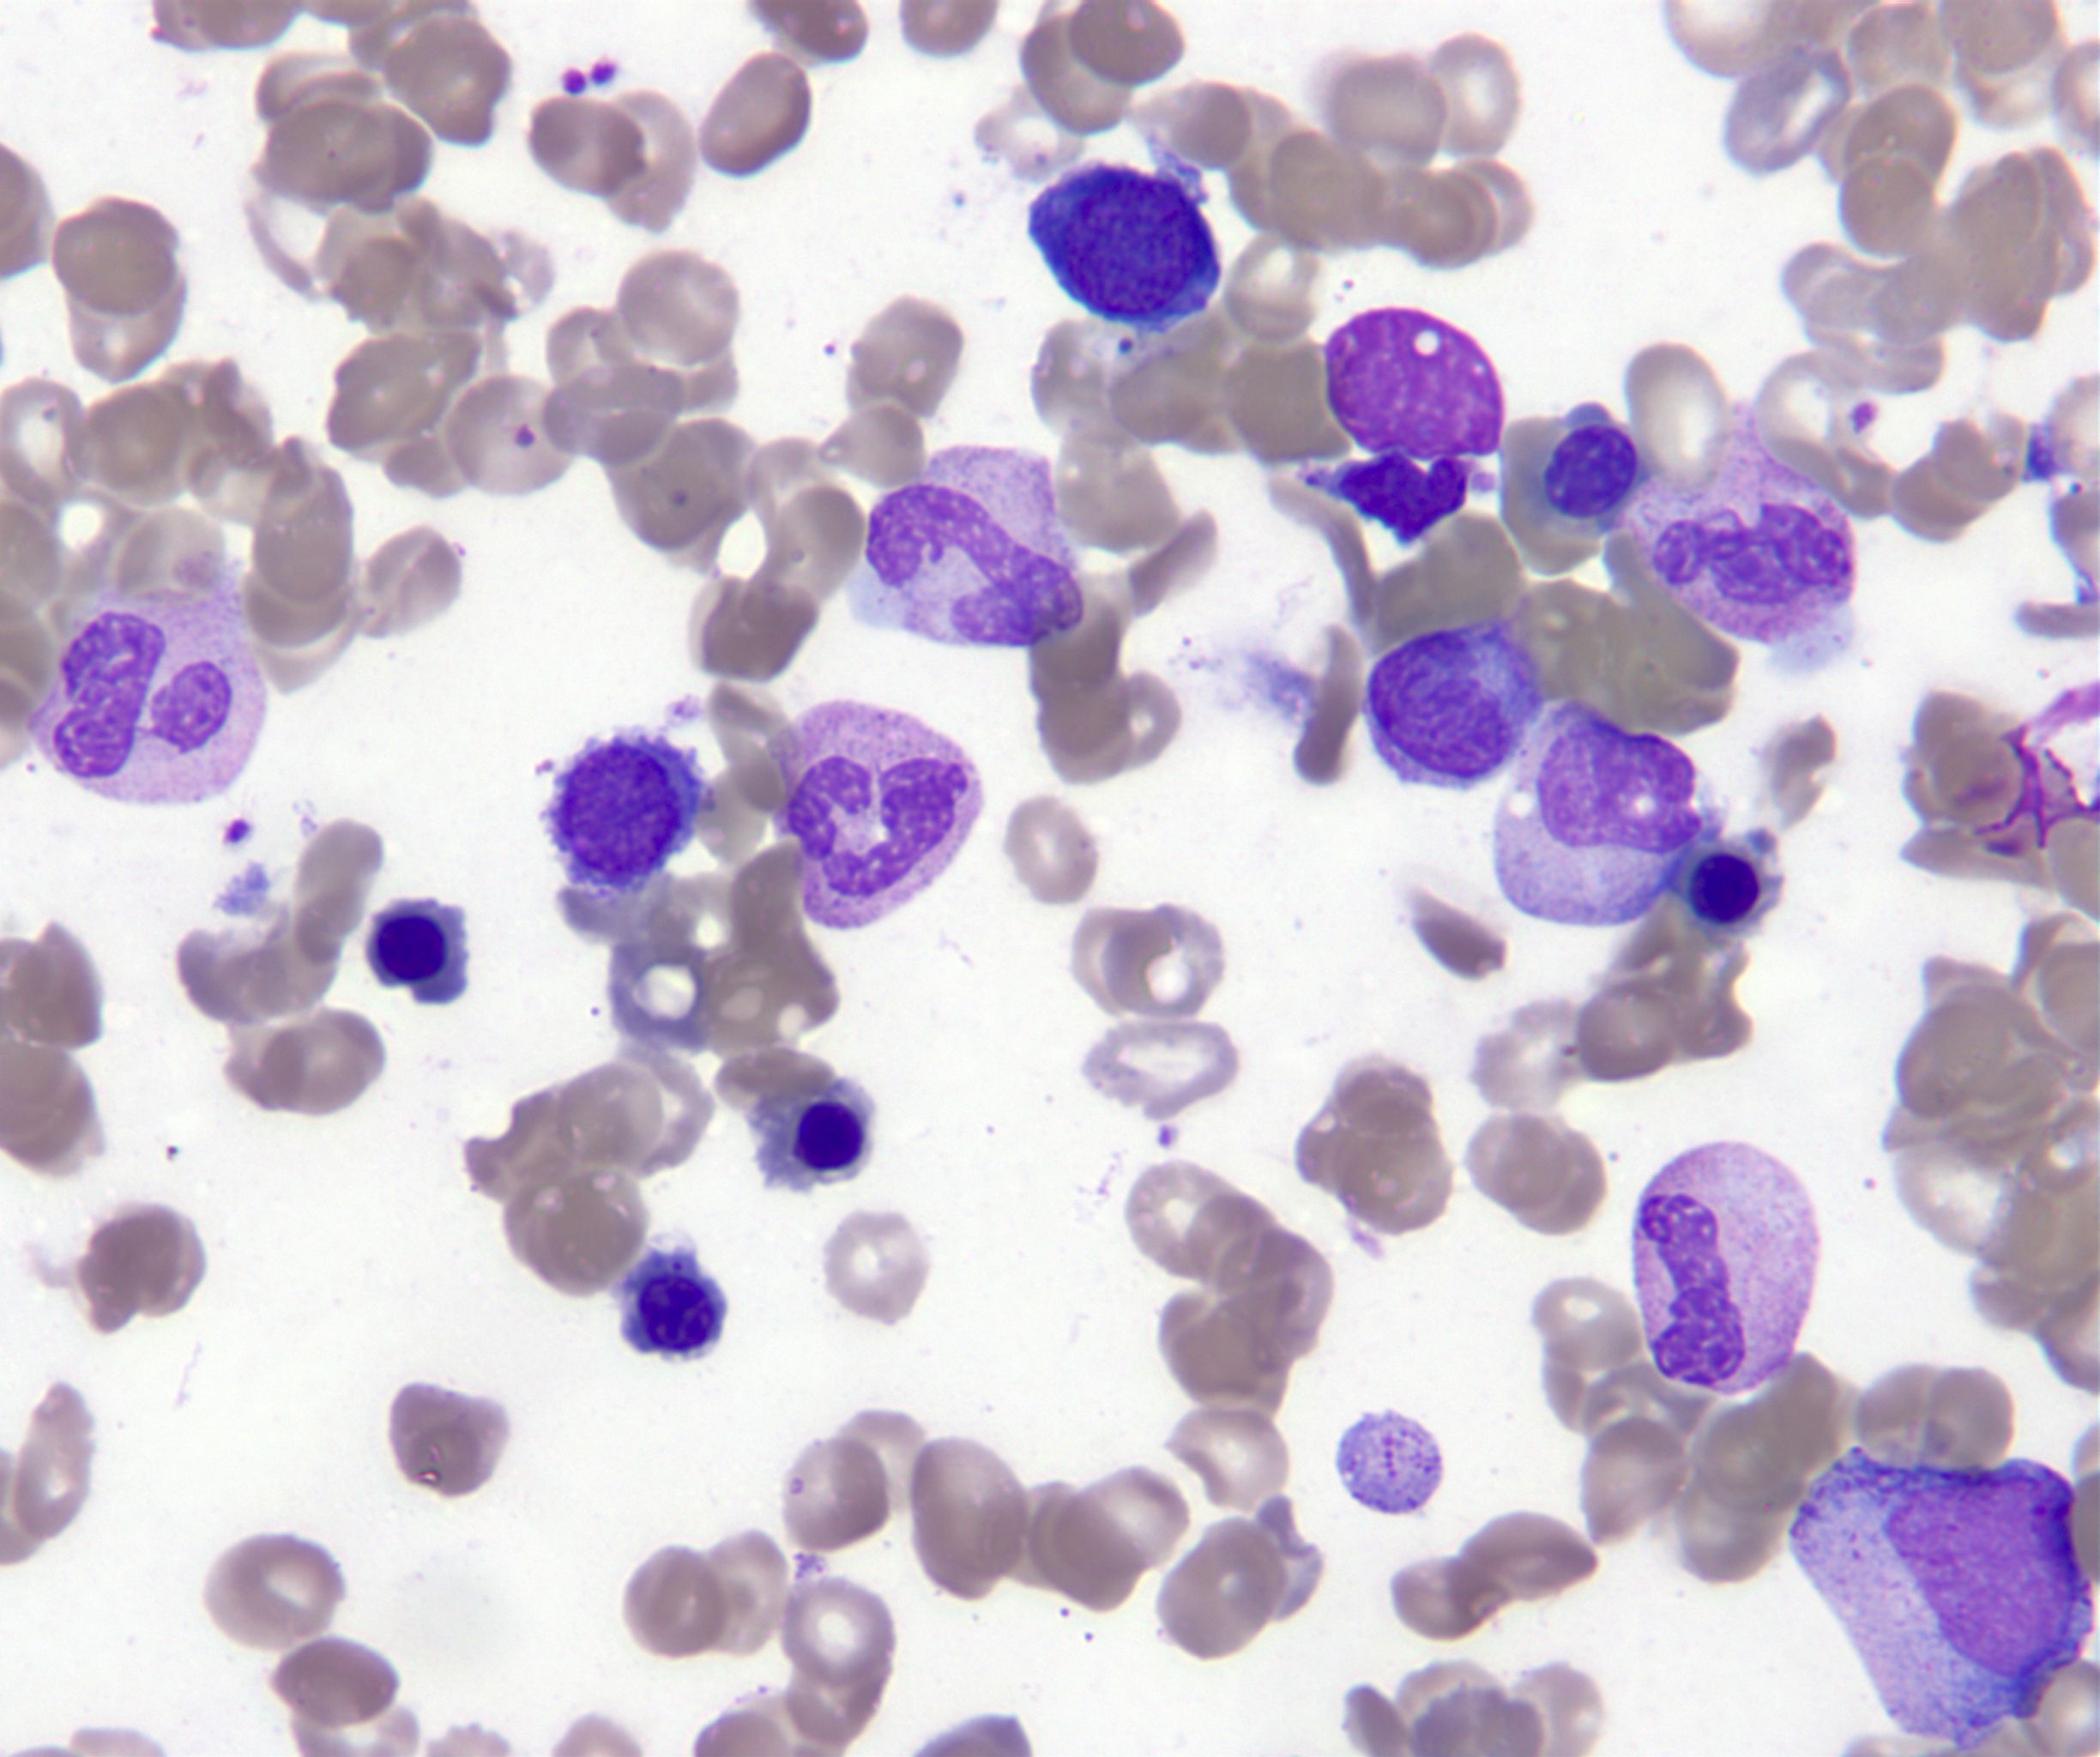22: (1027, 164, 1219, 328)
23: (541, 731, 708, 890)
24: (1521, 400, 1650, 539), (750, 1078, 874, 1192), (1666, 827, 1786, 939), (616, 1251, 726, 1364), (366, 899, 473, 1005)
3: (1790, 1446, 2095, 1740)
32: (1292, 445, 1490, 550)
4: (1495, 701, 1706, 925)
42: (1362, 626, 1544, 794)
5: (848, 443, 1083, 649), (1634, 1143, 1821, 1394)
6: (1620, 403, 1859, 646), (30, 590, 265, 810), (762, 701, 985, 930)
x: (1320, 311, 1503, 466), (1338, 1415, 1444, 1518)
